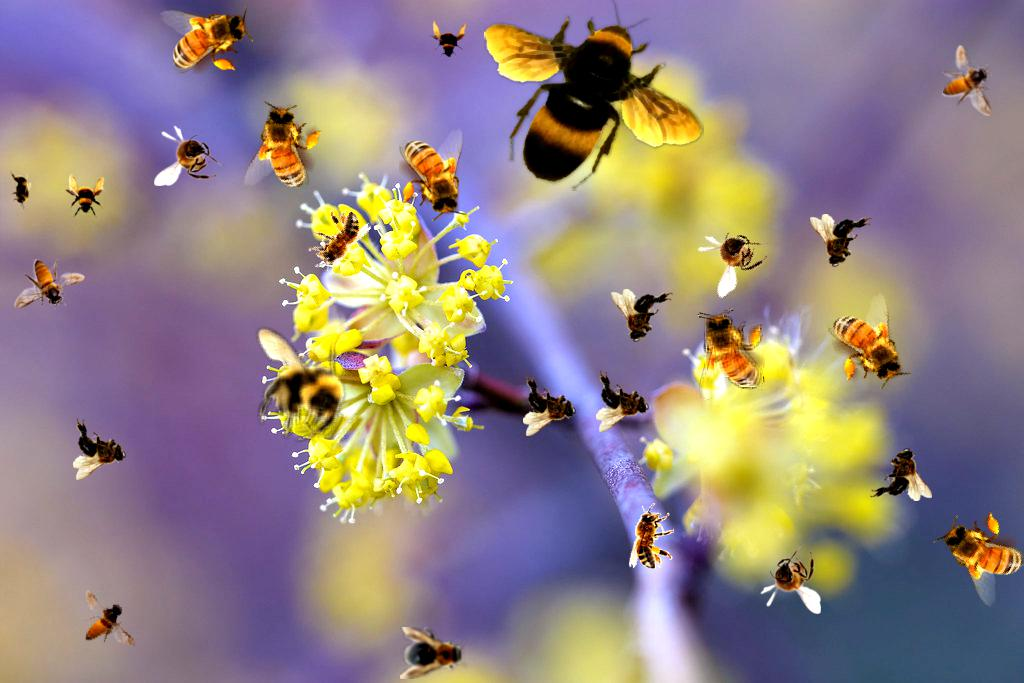Bee: (484, 0, 704, 191), (219, 308, 372, 457), (928, 495, 1024, 612), (821, 290, 915, 399), (237, 95, 331, 204), (687, 209, 780, 299), (697, 308, 765, 401), (399, 128, 467, 221), (160, 6, 253, 74), (299, 200, 373, 281), (69, 579, 139, 662), (760, 544, 821, 614), (154, 125, 224, 186), (14, 259, 85, 309), (942, 45, 992, 116), (400, 627, 468, 679), (596, 370, 649, 432), (611, 289, 673, 342), (870, 448, 932, 501), (523, 374, 576, 436), (73, 418, 126, 480), (810, 214, 872, 267), (629, 503, 674, 569), (425, 19, 469, 63), (62, 174, 106, 218), (10, 170, 32, 210)
